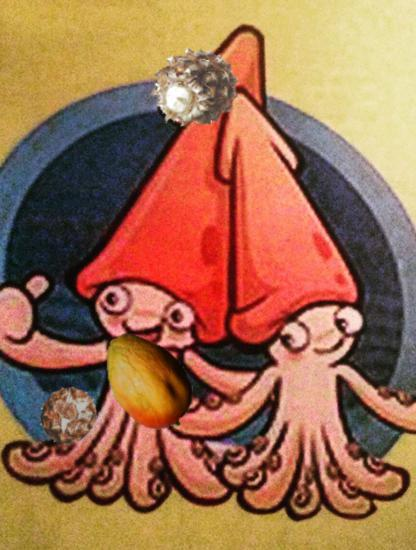Papaya: (93, 327, 202, 436)
Pineapple: (149, 41, 240, 132), (39, 386, 99, 446)
